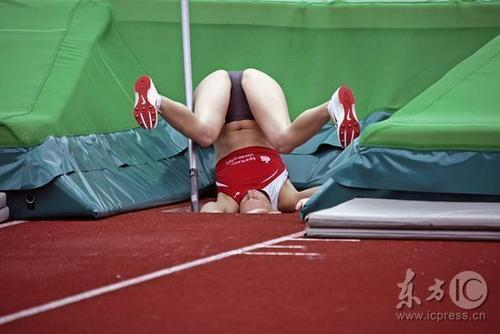Fall-Detected: (126, 60, 369, 224)
